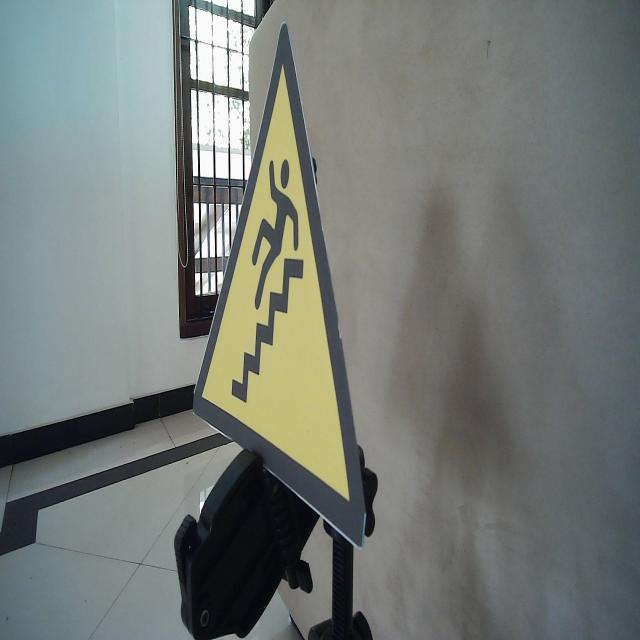stairs: (191, 19, 368, 554)
